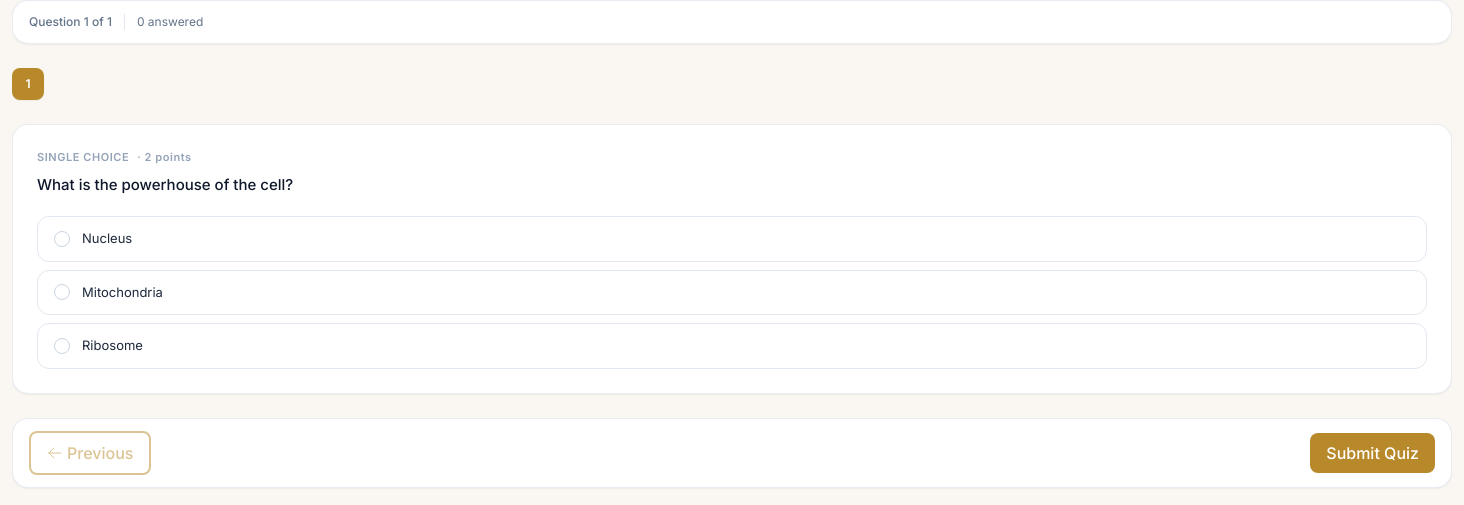
Scenario: QuizPlayerPage › shows "Not quite there" heading when failed
Check: the text "What is the powerhouse of the cell?" is shown, box top-left (37, 174), bottom-right (293, 194)
Click the button "Submit Quiz" at (1373, 452), box top-left (1310, 432), bottom-right (1435, 472)
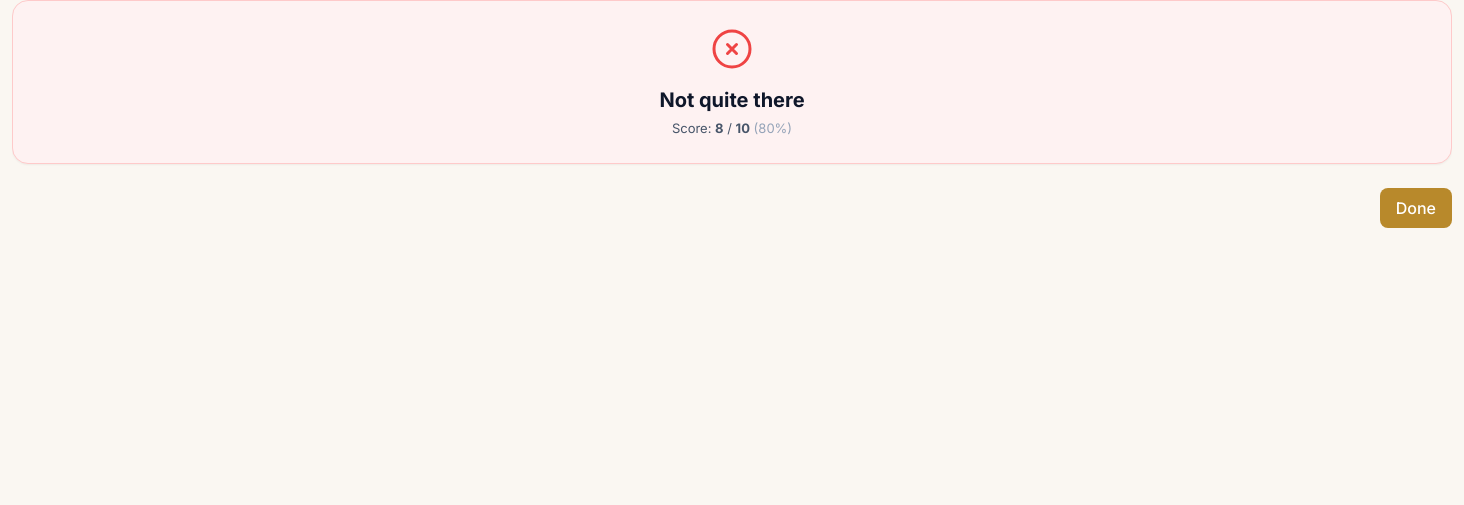
Check: the heading "Not quite there" is shown, box top-left (659, 88), bottom-right (804, 112)
